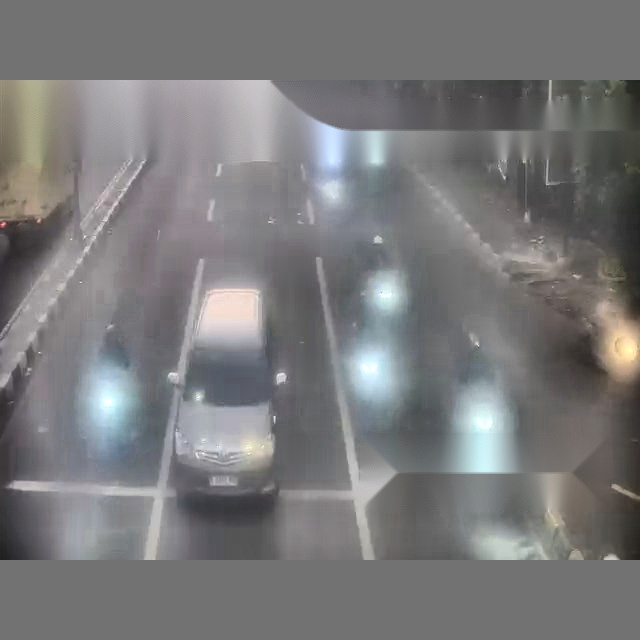Mobil: (170, 288, 286, 498)
